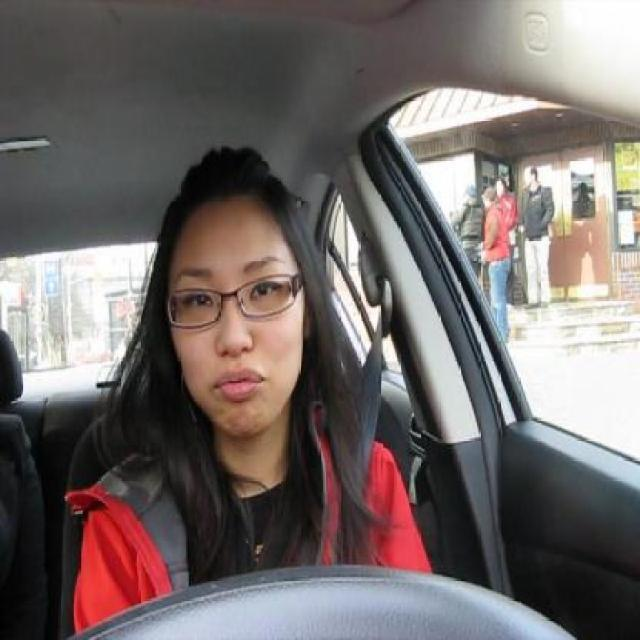awake: (183, 288, 214, 310), (248, 280, 282, 300)
